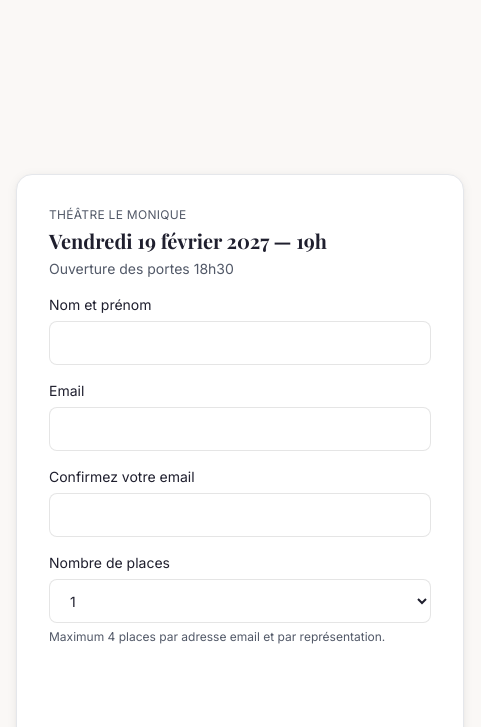
Test: form › mismatching emails block the request and say why
This screenshot has width=481, height=727.
Earlier steps of the test are not shown.
(page scrolled)
Type "Jean Dupont" into the field labelled "Nom et prénom" at (240, 343), box top-left (49, 321), bottom-right (431, 365)
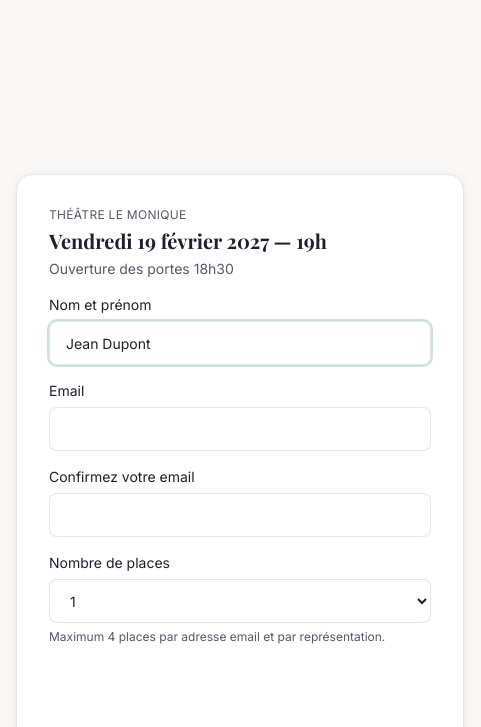
Type "jean@example.com" into the field labelled "Email" at (240, 429), box top-left (49, 407), bottom-right (431, 451)
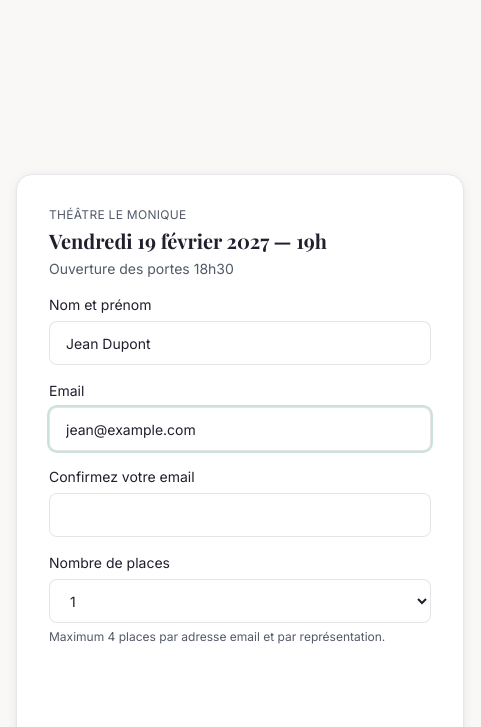
Type "jeanne@example.com" into the field labelled "Confirmez votre email" at (240, 515), box top-left (49, 493), bottom-right (431, 537)
(page scrolled)
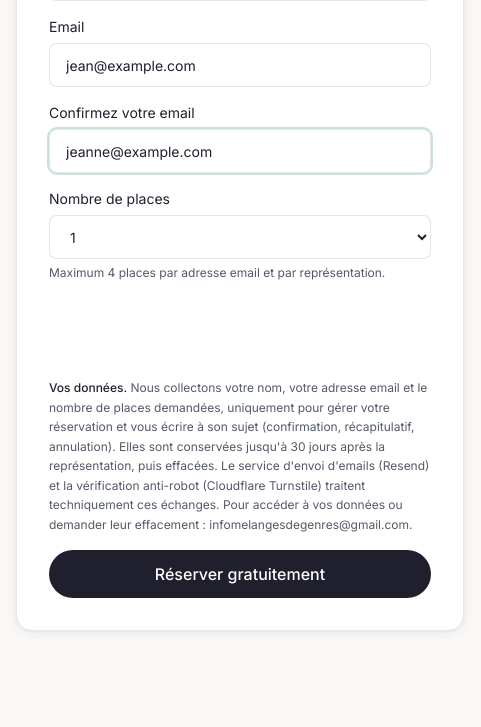
Click the button "Réserver gratuitement" at (240, 574), box top-left (49, 550), bottom-right (431, 598)
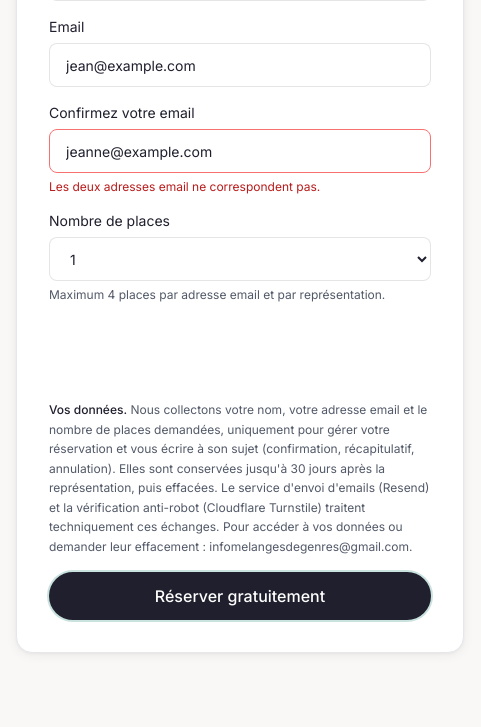
Result: the text "Les deux adresses email ne correspondent pas." is shown at top-left (49, 179), bottom-right (320, 194)
